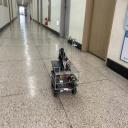cart: (50, 60, 80, 98)
